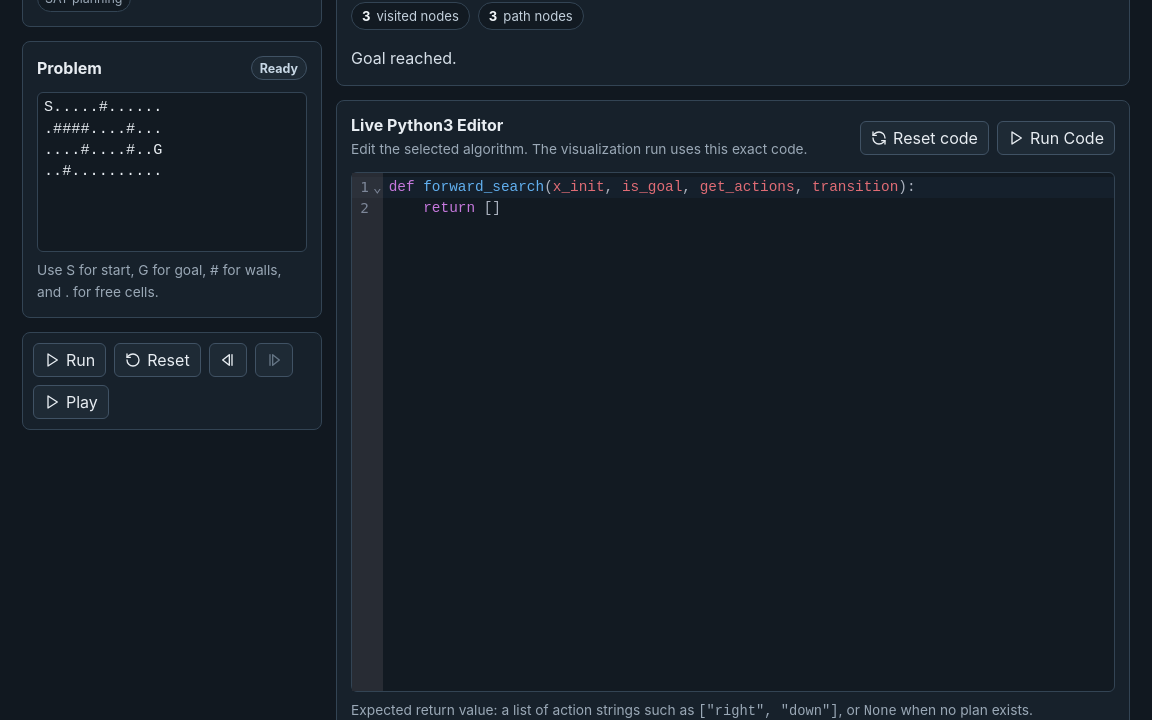
Test: App › steps and resets trace frames
The image size is (1152, 720).
(page scrolled)
Click the button "Reset" at [157, 360], box [114, 343, 201, 377]
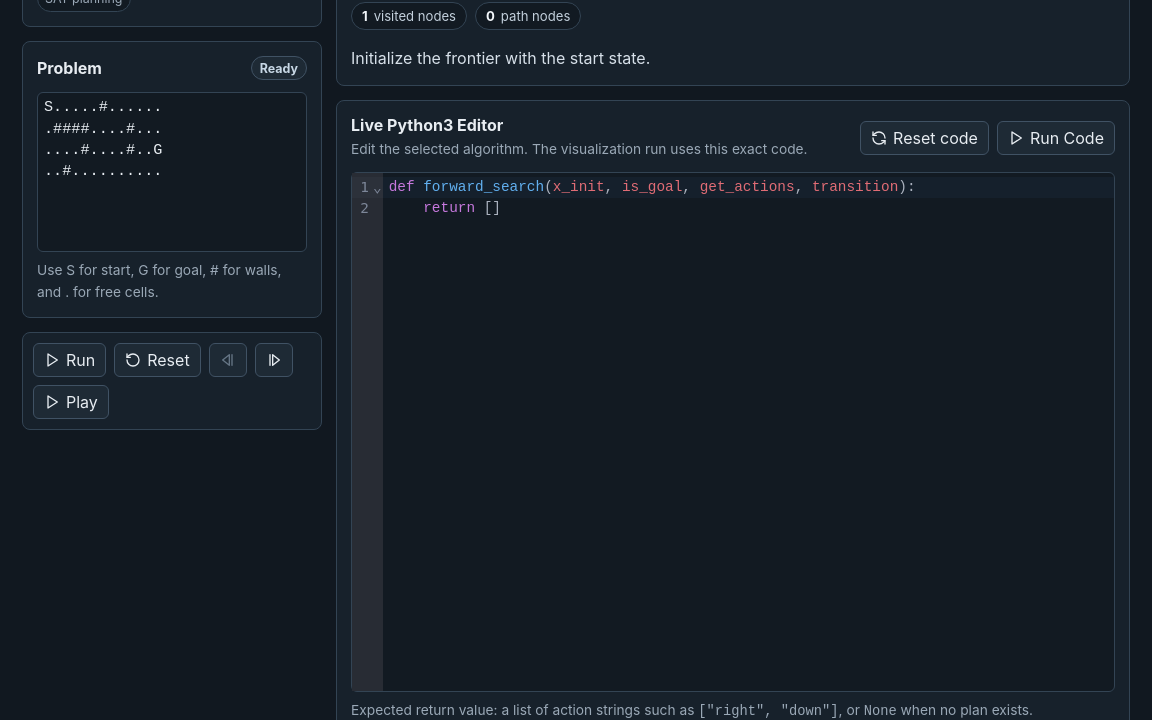
Check: the element named "Current frame metrics" shows "1 visited nodes", box [351, 2, 581, 30]
Check: the element named "Current frame metrics" shows "0 path nodes", box [351, 2, 581, 30]
Click the button named "Next frame" at [274, 360], box [255, 343, 293, 377]
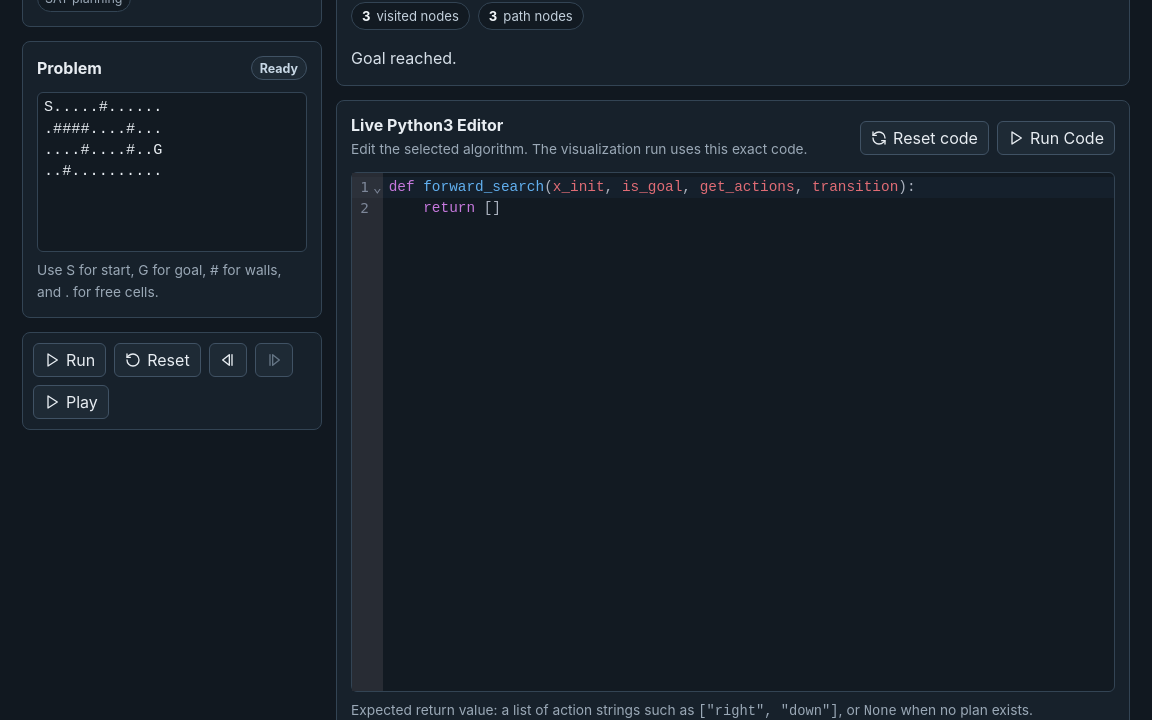
Check: the element named "Current frame metrics" shows "3 visited nodes", box [351, 2, 584, 30]
Check: the element named "Current frame metrics" shows "3 path nodes", box [351, 2, 584, 30]
